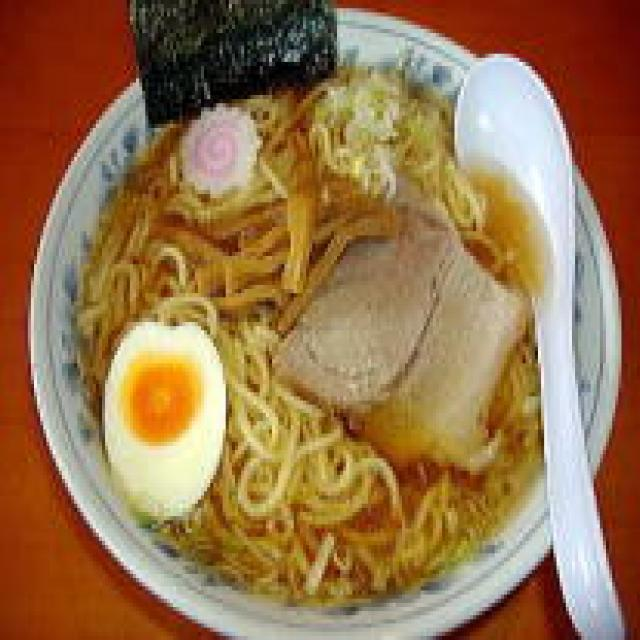面条主食: (25, 0, 621, 640)
